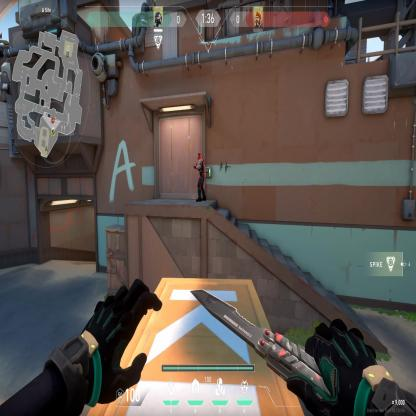enemy: (192, 150, 208, 202)
